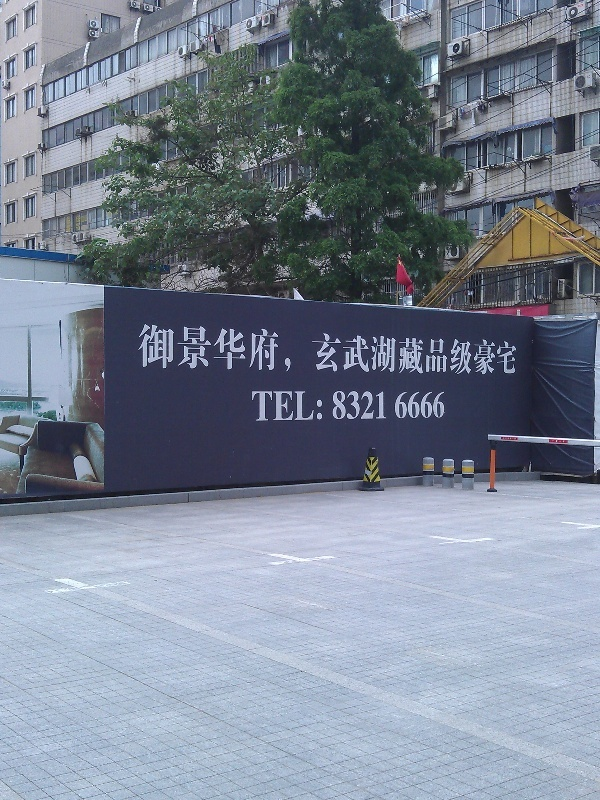text: (145, 323, 160, 377), (161, 323, 176, 377), (177, 323, 192, 377), (193, 323, 208, 377), (209, 323, 224, 377), (225, 323, 240, 377), (241, 323, 256, 377), (257, 323, 272, 377), (273, 323, 288, 377), (289, 323, 304, 377), (305, 323, 320, 377), (321, 323, 336, 377), (337, 323, 352, 377), (353, 323, 368, 377), (369, 323, 384, 377), (385, 323, 400, 377), (401, 323, 416, 377), (417, 323, 432, 377), (433, 323, 448, 377), (449, 323, 464, 377), (465, 323, 480, 377), (481, 323, 496, 377), (497, 323, 512, 377), (257, 389, 272, 424), (273, 389, 288, 424), (289, 389, 304, 424), (305, 389, 320, 424), (337, 390, 352, 420), (353, 390, 368, 420), (369, 390, 384, 420), (401, 391, 416, 419), (417, 391, 432, 419), (433, 391, 447, 419), (137, 323, 144, 377), (513, 323, 518, 377), (392, 391, 400, 419), (67, 216, 80, 233), (251, 389, 256, 424), (331, 390, 336, 420), (385, 390, 389, 420), (321, 389, 324, 424), (76, 214, 80, 231), (552, 440, 560, 443), (503, 438, 512, 440), (561, 440, 565, 443), (513, 438, 517, 440)
